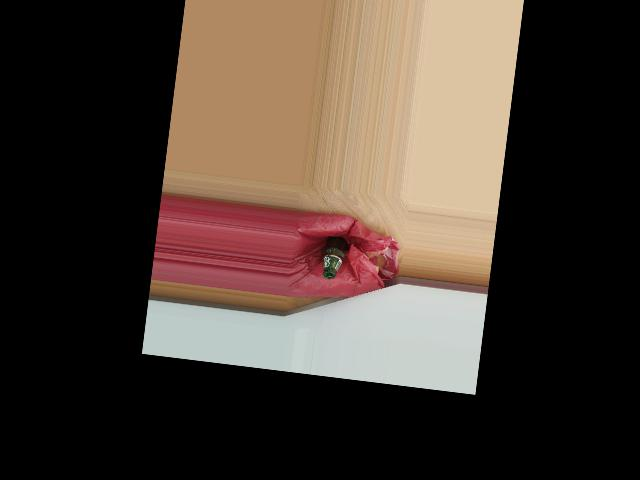beer: (318, 234, 348, 280)
